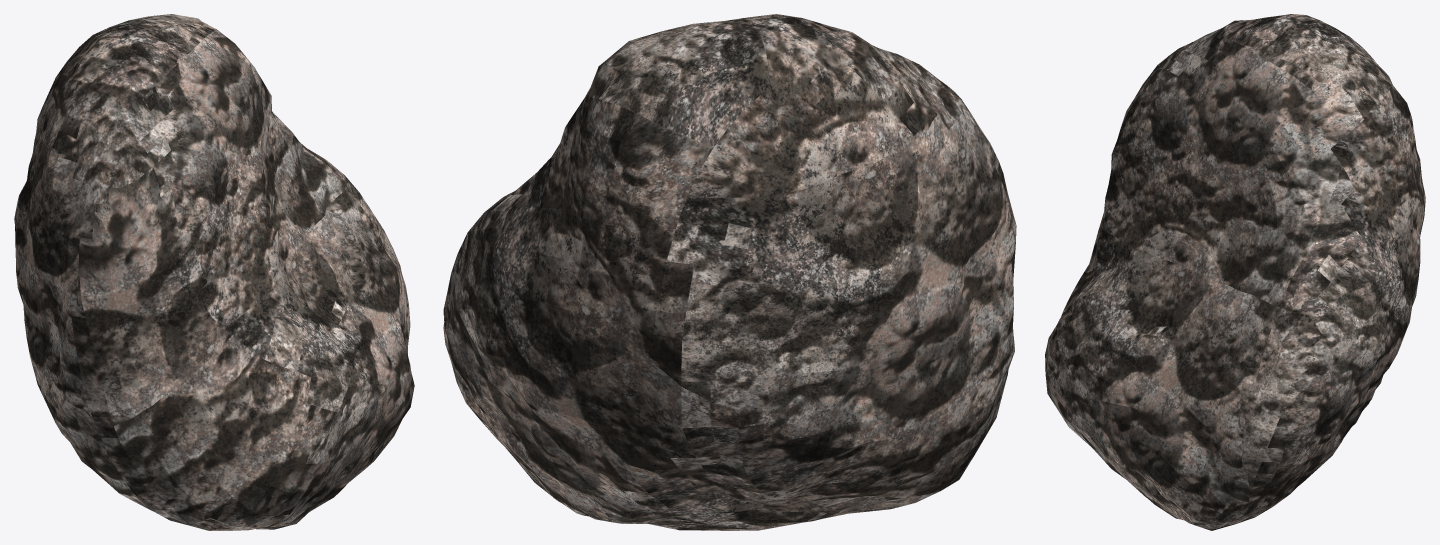
Rendered from asteroid1.glb.
The picture shows the model from 3 angles, left to right: view 1: azimuth 30°, elevation 25°; view 2: azimuth 150°, elevation 25°; view 3: azimuth 270°, elevation 25°; orthographic projection. The views are drawn at different scales.
Parts seen in each view (by area): view 1: rock.001; view 2: rock.001; view 3: rock.001.
Boxes of the visible parts, x1,y1,x2,y2 form: rock.001: (14,14,414,530); rock.001: (443,14,1016,530); rock.001: (1045,14,1425,530).
Size of the model in its own units: 0.9418 by 1.07 by 0.8368.
1 material, 1 textured.
